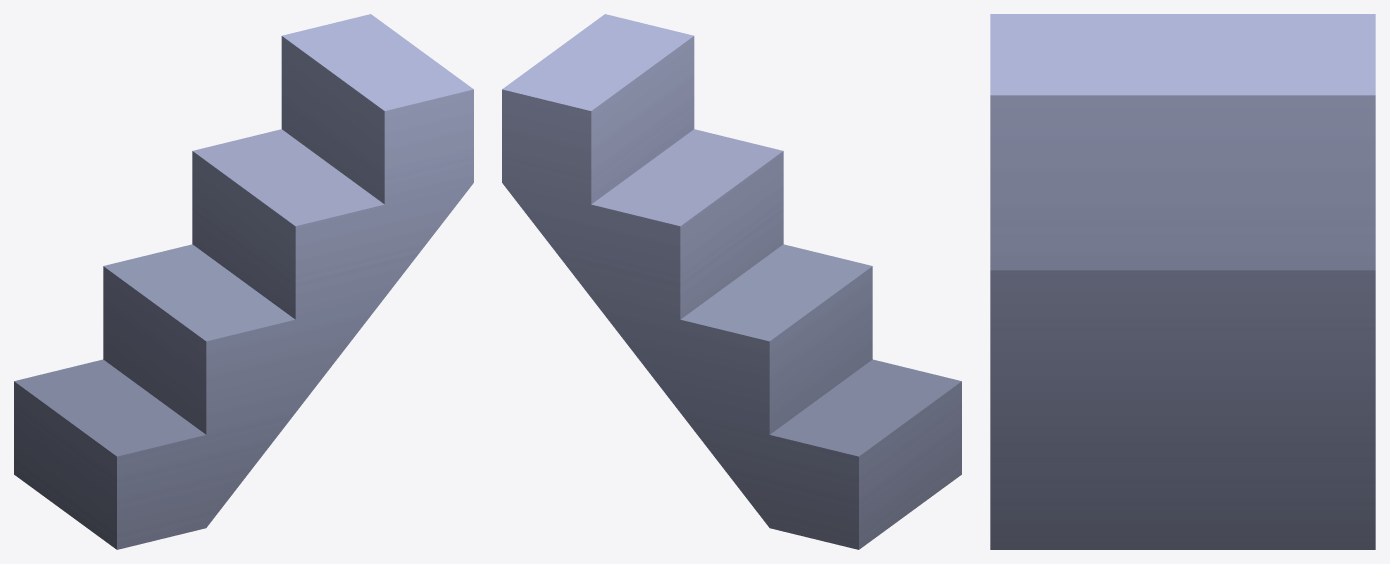
Rendered from stairs-diagonal-narrow.fbx.
3 views of the same model, side by side, from view 1: azimuth 30°, elevation 25°; view 2: azimuth 150°, elevation 25°; view 3: azimuth 270°, elevation 25° (orthographic). The views are drawn at different scales.
Visible parts, largest first — view 1: stairs-diagonal-narrow; view 2: stairs-diagonal-narrow; view 3: stairs-diagonal-narrow.
Part boxes in pixels (<box>): stairs-diagonal-narrow: <box>14,14,473,549</box>; stairs-diagonal-narrow: <box>502,14,961,549</box>; stairs-diagonal-narrow: <box>990,14,1375,549</box>.
Size of the model in its own units: 100 by 100 by 50.
